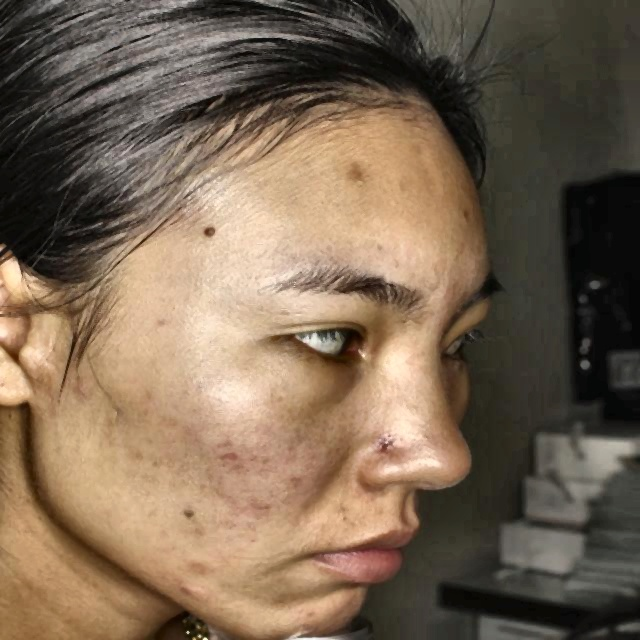comedone: (185, 561, 215, 580), (177, 576, 197, 601)
